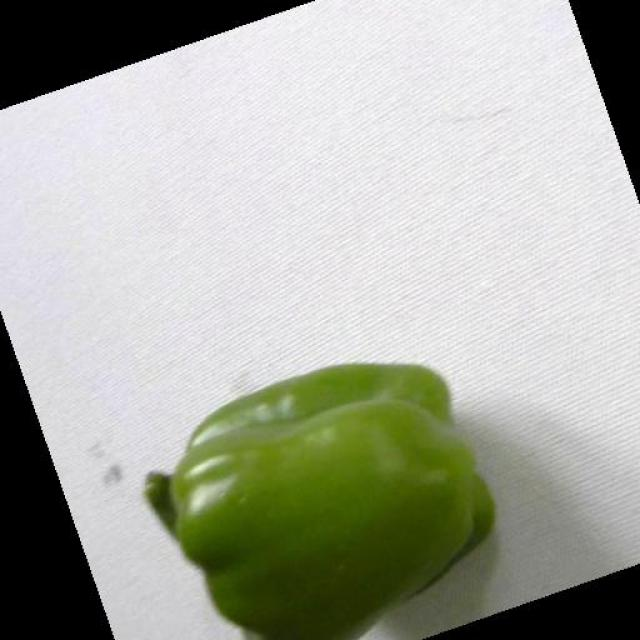Fresh_Capsicum: (127, 442, 473, 590)
